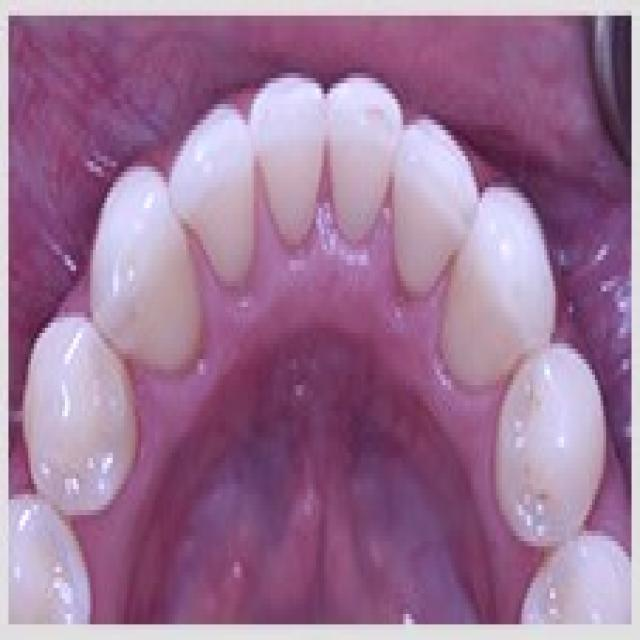tooth: (17, 333, 132, 526), (493, 359, 612, 526), (93, 161, 183, 375), (375, 83, 471, 281), (476, 162, 547, 396), (180, 78, 254, 302), (254, 58, 324, 240), (324, 68, 392, 224)
